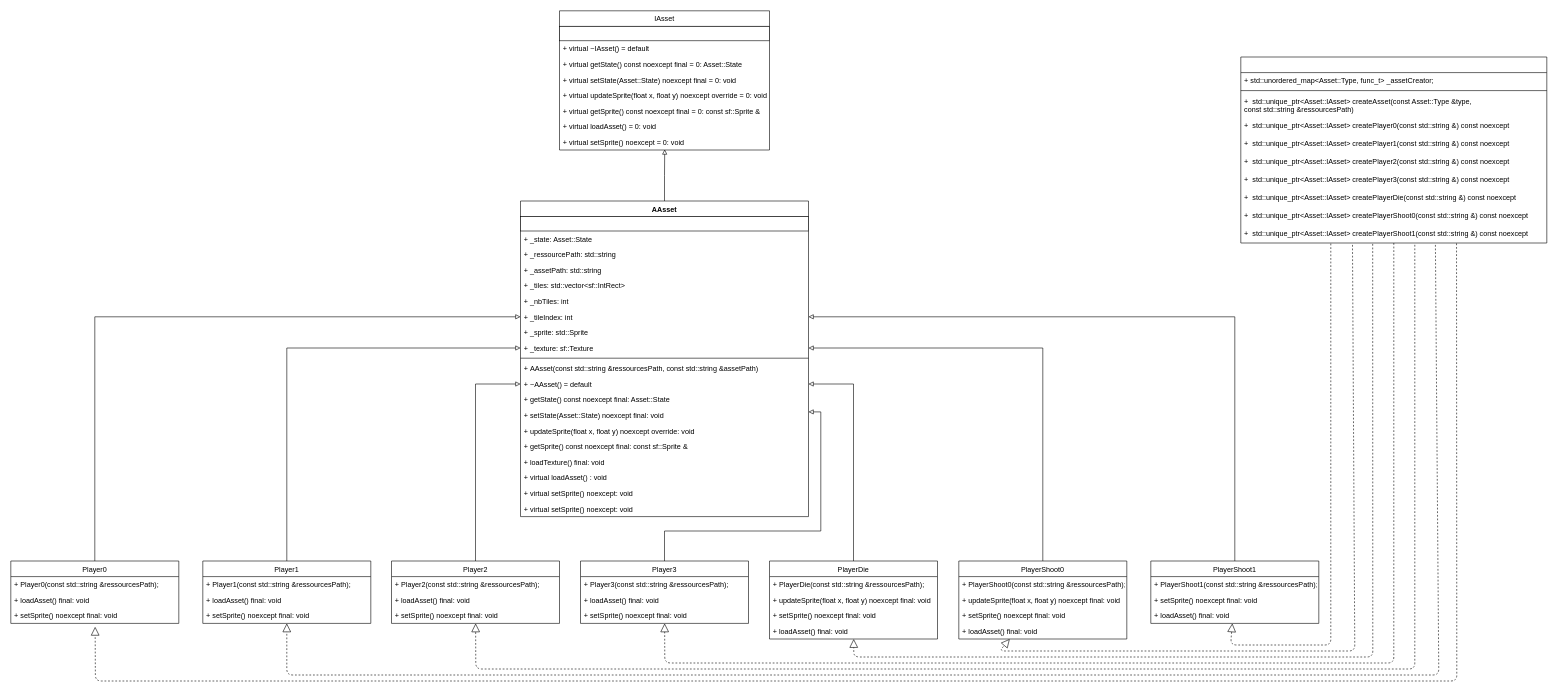
This 1557x700 diagram has some shape labels left out. The shapes that lost their labels are listed below. From the top down, each one's box as (x1, y1, x2, y2) in pixels, then its label:
(559, 26, 770, 41): «interface»
(1240, 56, 1547, 243): AssetsFactory
(520, 216, 808, 231): «abstract class»
